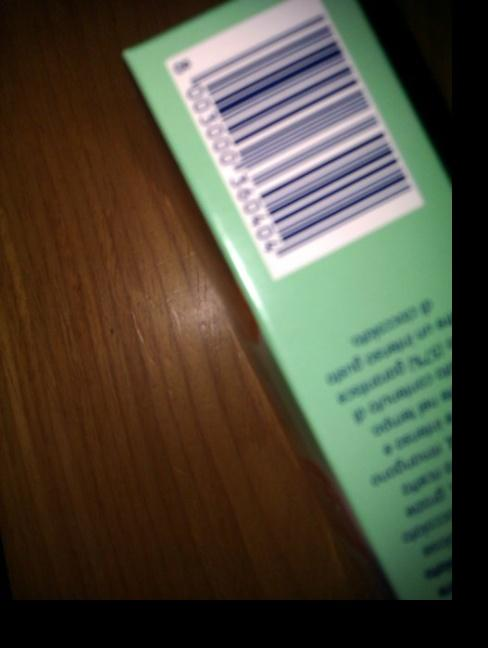Barcode: (162, 1, 431, 281)
